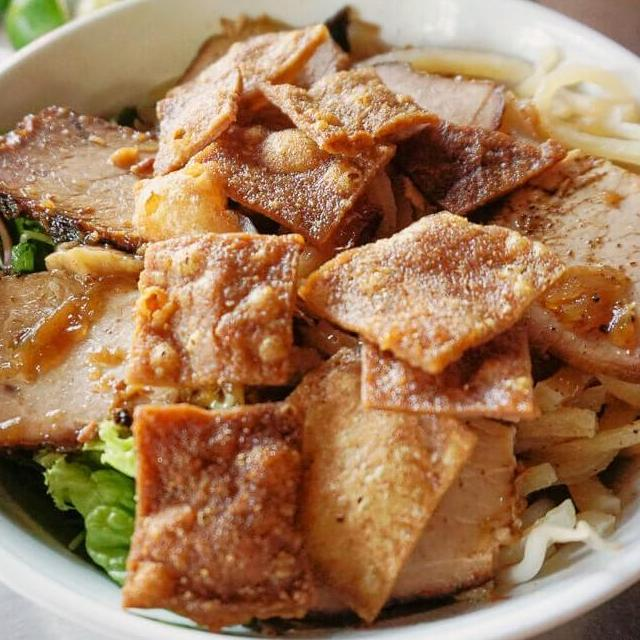banh da: (242, 342, 484, 628), (110, 396, 322, 638), (290, 208, 572, 378), (176, 92, 404, 254), (120, 226, 310, 392), (142, 20, 332, 184), (352, 318, 546, 428), (248, 60, 446, 162)
mi: (351, 26, 640, 204), (485, 345, 640, 593)
mi quang: (0, 27, 640, 640)
thit heo: (268, 402, 530, 640), (0, 262, 252, 456), (168, 5, 512, 142), (458, 143, 640, 387), (0, 97, 263, 254)
